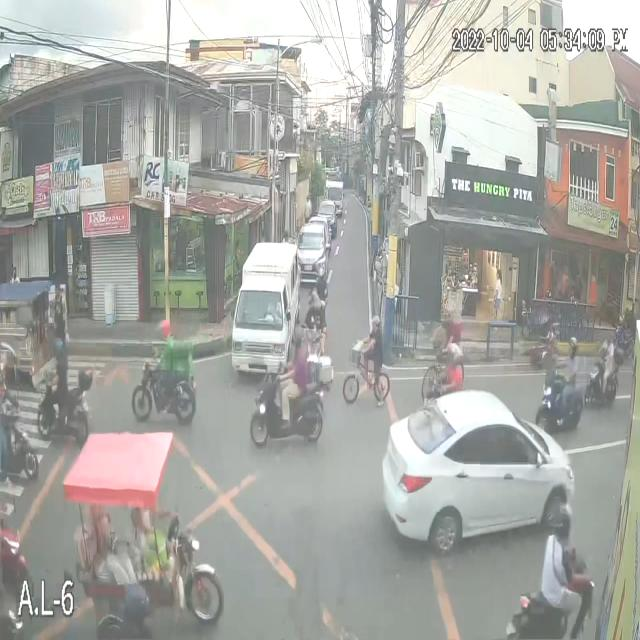Full-Faced: (550, 501, 573, 539), (49, 335, 67, 366), (286, 324, 306, 351), (154, 319, 172, 340), (315, 263, 330, 284), (567, 332, 578, 358)
